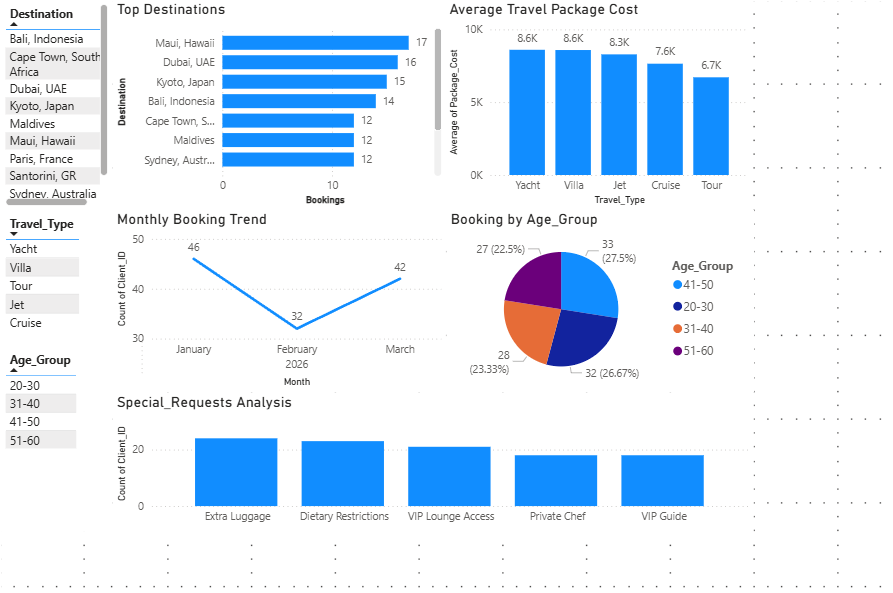

The dashboard page shown, as its layout file describes it:
{"tool":"powerbi","page":{"name":"Page 1","canvas":[1280,720],"ordinal":0},"visuals":[{"type":"clusteredBarChart","title":"Top Destinations","fields":{"Category":["TravelData.Destination"],"Y":["CountNonNull(TravelData.Client_ID)"]},"box":[129,0,381,240],"z":0},{"type":"clusteredColumnChart","title":"Average Travel Package Cost","fields":{"Category":["TravelData.Travel_Type"],"Y":["Avg(TravelData.Package_Cost)"]},"box":[509,0,352,240],"z":1000},{"type":"pieChart","title":"Booking by Age_Group","fields":{"Category":["TravelData.Client_Age_Group"],"Y":["CountNonNull(TravelData.Client_ID)"]},"box":[510,240,352,208],"z":2000},{"type":"clusteredColumnChart","title":" Special_Requests Analysis","fields":{"Category":["TravelData.Special_Requests"],"Y":["CountNonNull(TravelData.Client_ID)"]},"box":[129,448,733,160],"z":3000},{"type":"lineChart","title":"Monthly Booking Trend","fields":{"Y":["CountNonNull(TravelData.Client_ID)"],"Category":["TravelData.Booking_Date.Variation.Date Hierarchy.Year","TravelData.Booking_Date.Variation.Date Hierarchy.Month"]},"box":[128,240,381,208],"z":4000},{"type":"tableEx","fields":{"Values":["TravelData.Destination"]},"box":[0,0,128,240],"z":5000},{"type":"tableEx","fields":{"Values":["TravelData.Travel_Type"]},"box":[0,240,129.5,155.6],"z":6000},{"type":"tableEx","fields":{"Values":["TravelData.Client_Age_Group"]},"box":[0,396,128,212],"z":7000}]}

Visuals, with their boxes on the page's 1280x720 design canvas (x1, y1, x2, y2). These are canvas units, not pixel positions in the 893x593 screenshot, which may show the page scaled, cropped or inside an application window:
"Top Destinations" clusteredBarChart: box(129, 0, 510, 240)
"Average Travel Package Cost" clusteredColumnChart: box(509, 0, 861, 240)
"Booking by Age_Group" pieChart: box(510, 240, 862, 448)
" Special_Requests Analysis" clusteredColumnChart: box(129, 448, 862, 608)
"Monthly Booking Trend" lineChart: box(128, 240, 509, 448)
tableEx - TravelData.Destination: box(0, 0, 128, 240)
tableEx - TravelData.Travel_Type: box(0, 240, 130, 396)
tableEx - TravelData.Client_Age_Group: box(0, 396, 128, 608)
